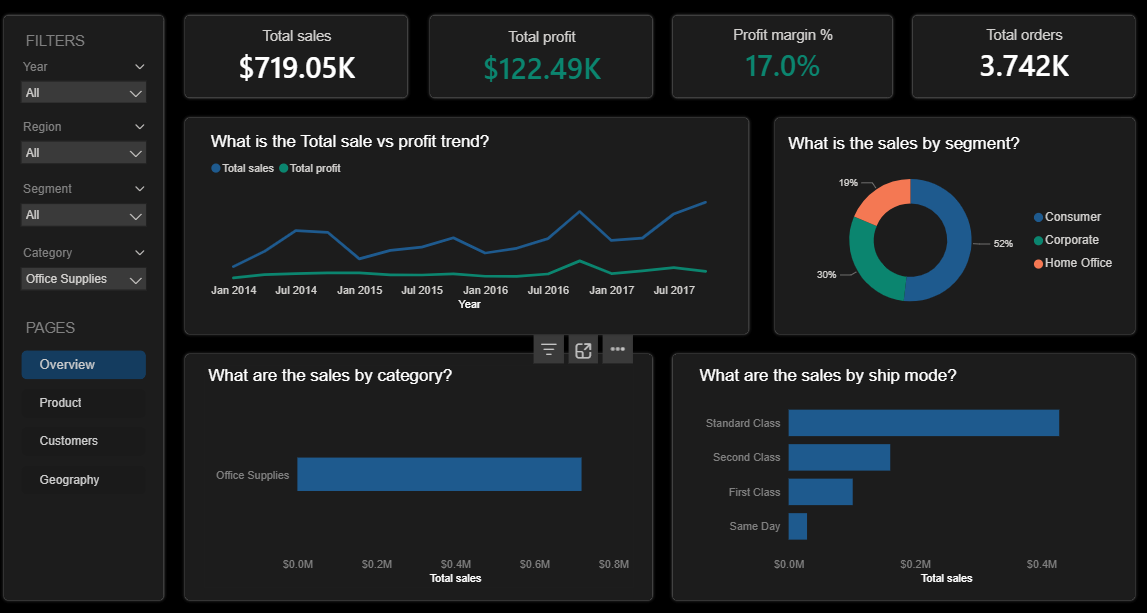

What the dashboard file says about the page in this screenshot:
{"tool":"powerbi","page":{"name":"Overview","canvas":[1280,720],"ordinal":0},"visuals":[{"type":"shape","box":[11,52.1,183.9,650.4],"z":0},{"type":"shape","box":[209.9,52.1,252.5,98.8],"z":1000},{"type":"shape","box":[478.9,52.1,252.5,98.8],"z":2000},{"type":"shape","box":[745.1,52.1,249.7,98.8],"z":3000},{"type":"shape","box":[1008.6,52.1,252.5,98.8],"z":4000},{"type":"slicer","fields":{"Values":["date_dim.Order Date.Variation.Date Hierarchy.Year"]},"box":[23.3,100.2,159.2,52.1],"z":5000},{"type":"slicer","fields":{"Values":["Customer_dim.Region"]},"box":[23.3,166,159.2,59],"z":6000},{"type":"slicer","fields":{"Values":["Customer_dim.Segment"]},"box":[23.3,234.6,159.2,60.4],"z":7000},{"type":"slicer","fields":{"Values":["Product_dim.Category"]},"box":[23.3,304.6,159.2,59],"z":8000},{"type":"cardVisual","fields":{"Data":["Measures_.Total sales"]},"box":[253.9,53.5,166,97.4],"z":9000},{"type":"cardVisual","fields":{"Data":["Measures_.Total profit"]},"box":[522.8,54.9,166,97.4],"z":10000},{"type":"cardVisual","fields":{"Data":["Measures_.Profit margin %"]},"box":[787.7,52.1,166,97.4],"z":11000},{"type":"cardVisual","fields":{"Data":["Measures_.Total orders"]},"box":[1052.5,52.1,166,97.4],"z":12000},{"type":"shape","box":[209.9,164.7,627.1,245.6],"z":13000},{"type":"lineChart","title":"What is the Total sale vs profit trend?","fields":{"Category":["Sales.Order Date.Variation.Date Hierarchy.Year","Sales.Order Date.Variation.Date Hierarchy.Quarter","Sales.Order Date.Variation.Date Hierarchy.Month","Sales.Order Date.Variation.Date Hierarchy.Day"],"Y":["Measures_.Total sales","Measures_.Total profit"]},"box":[237.4,183.9,576.3,201.7],"z":14000},{"type":"shape","box":[857.6,164.7,403.4,245.6],"z":15000},{"type":"donutChart","title":"What is the sales by segment?","fields":{"Category":["Customer_dim.Segment"],"Y":["CountNonNull(Customer_dim.Segment)"]},"box":[871.4,186.6,374.6,212.7],"z":16000},{"type":"shape","box":[209.9,424,521.4,278.6],"z":17000},{"type":"barChart","title":"What are the sales by category?","fields":{"Category":["Product_dim.Category"],"Y":["Measures_.Total sales"]},"box":[234.6,440.5,472,245.6],"z":18000},{"type":"shape","box":[745.1,424,516,278.6],"z":19000},{"type":"barChart","title":"What are the sales by ship mode?","fields":{"Y":["Measures_.Total sales"],"Category":["Sales.Ship Mode"]},"box":[773.9,440.5,472,245.6],"z":20000},{"type":"textbox","box":[34.3,71.4,82.3,28.8],"z":21000},{"type":"textbox","box":[34.3,385.6,82.3,28.8],"z":22000},{"type":"pageNavigator","box":[34.3,424,137.2,159.2],"z":23000}]}

Visuals, with their boxes on the page's 1280x720 design canvas (x1, y1, x2, y2). These are canvas units, not pixel positions in the 1147x613 screenshot, which may show the page scaled, cropped or inside an application window:
shape: (x1=11, y1=52, x2=195, y2=702)
shape: (x1=210, y1=52, x2=462, y2=151)
shape: (x1=479, y1=52, x2=731, y2=151)
shape: (x1=745, y1=52, x2=995, y2=151)
shape: (x1=1009, y1=52, x2=1261, y2=151)
slicer - date_dim.Order Date.Variation.Date Hierarchy.Year: (x1=23, y1=100, x2=182, y2=152)
slicer - Customer_dim.Region: (x1=23, y1=166, x2=182, y2=225)
slicer - Customer_dim.Segment: (x1=23, y1=235, x2=182, y2=295)
slicer - Product_dim.Category: (x1=23, y1=305, x2=182, y2=364)
cardVisual - Measures_.Total sales: (x1=254, y1=54, x2=420, y2=151)
cardVisual - Measures_.Total profit: (x1=523, y1=55, x2=689, y2=152)
cardVisual - Measures_.Profit margin %: (x1=788, y1=52, x2=954, y2=150)
cardVisual - Measures_.Total orders: (x1=1052, y1=52, x2=1218, y2=150)
shape: (x1=210, y1=165, x2=837, y2=410)
"What is the Total sale vs profit trend?" lineChart: (x1=237, y1=184, x2=814, y2=386)
shape: (x1=858, y1=165, x2=1261, y2=410)
"What is the sales by segment?" donutChart: (x1=871, y1=187, x2=1246, y2=399)
shape: (x1=210, y1=424, x2=731, y2=703)
"What are the sales by category?" barChart: (x1=235, y1=440, x2=707, y2=686)
shape: (x1=745, y1=424, x2=1261, y2=703)
"What are the sales by ship mode?" barChart: (x1=774, y1=440, x2=1246, y2=686)
textbox: (x1=34, y1=71, x2=117, y2=100)
textbox: (x1=34, y1=386, x2=117, y2=414)
pageNavigator: (x1=34, y1=424, x2=172, y2=583)
